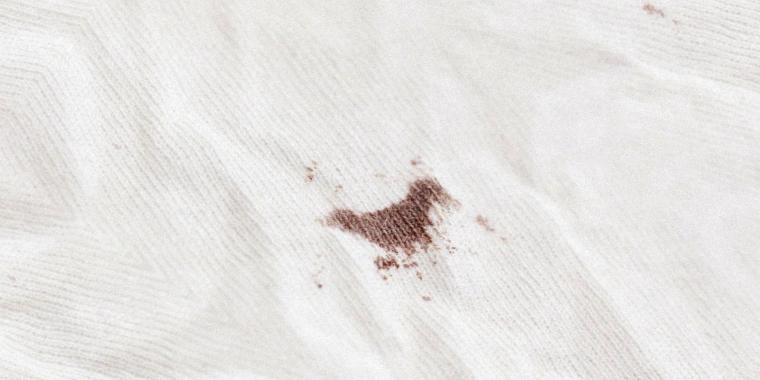stain: (322, 170, 462, 276)
